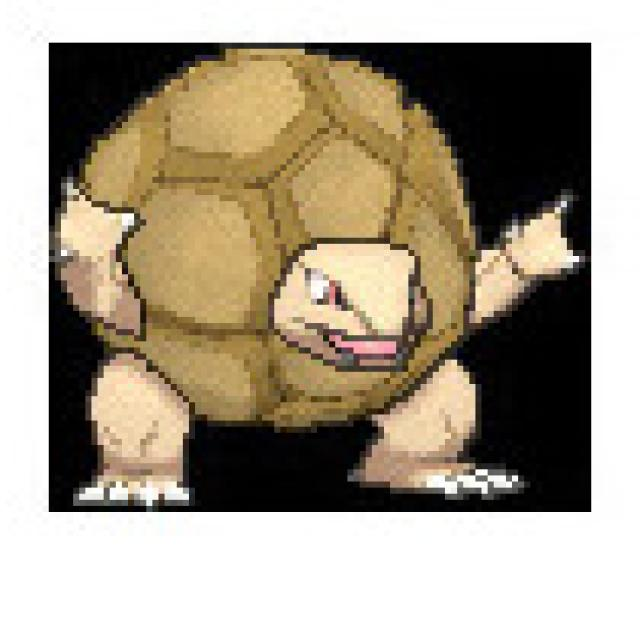Golem: (57, 42, 586, 498)
